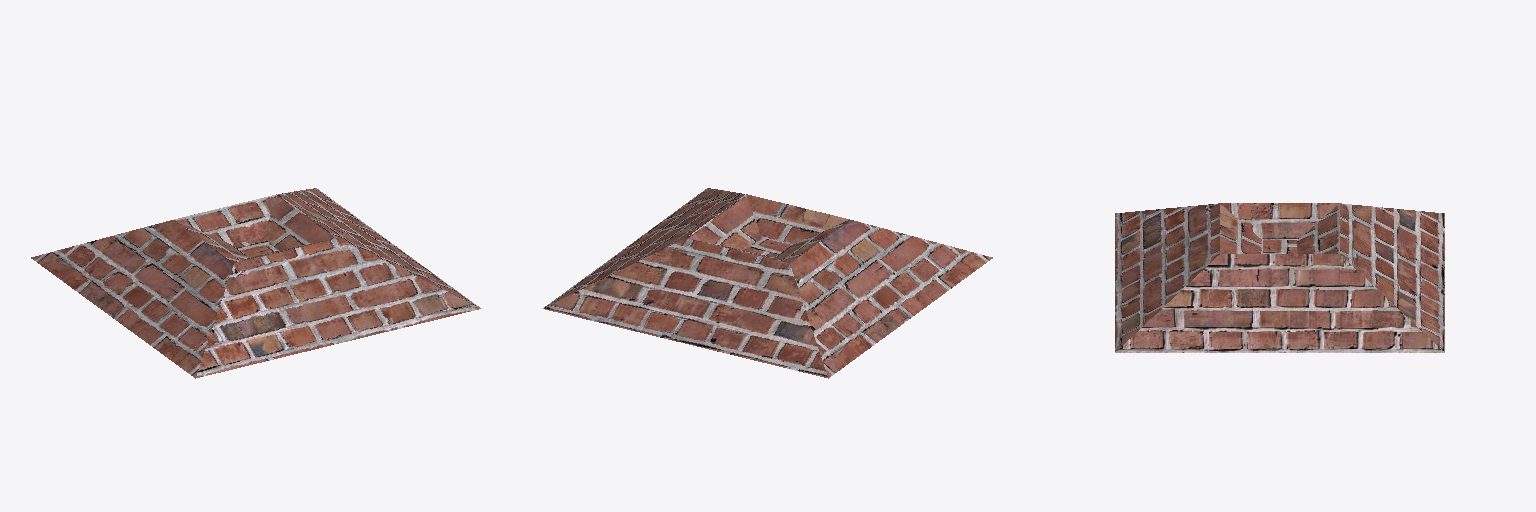
3 renders of one model, left to right at view 1: azimuth 30°, elevation 25°; view 2: azimuth 150°, elevation 25°; view 3: azimuth 270°, elevation 25°, orthographic.
Visible parts, largest first — view 1: Cube; view 2: Cube; view 3: Cube.
Boxes of the visible parts, x1,y1,x2,y2 form: Cube: [31, 188, 480, 378]; Cube: [543, 188, 992, 378]; Cube: [1115, 203, 1444, 352].
Size of the model in its own units: 5.5 by 1 by 5.5.
Materials: 2 (1 with a texture image).